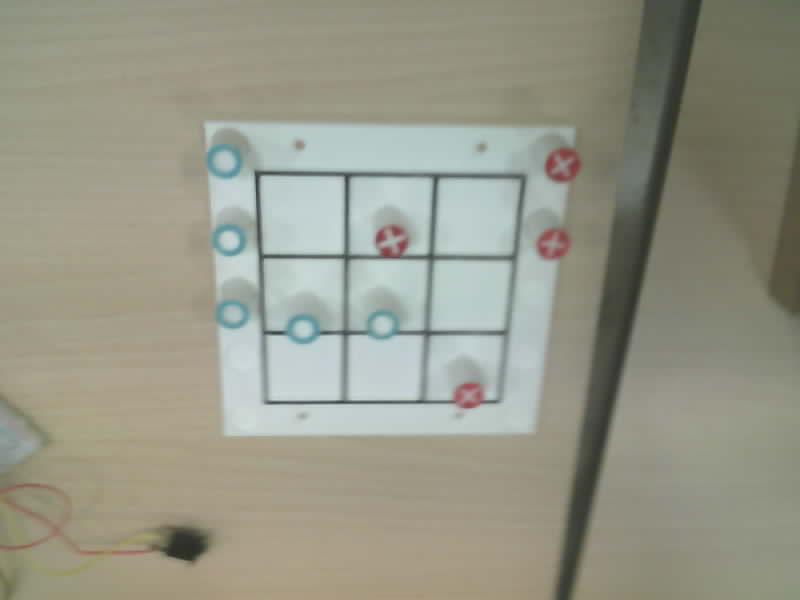blue circle: (206, 144, 241, 178), (212, 224, 245, 256), (286, 314, 320, 343), (215, 300, 249, 328), (367, 310, 399, 339)
board: (206, 122, 579, 434)
cells: (259, 175, 344, 254), (435, 178, 520, 255), (349, 177, 432, 255), (263, 258, 343, 331), (348, 259, 427, 331), (431, 260, 511, 331), (266, 334, 341, 401), (425, 336, 502, 401), (348, 335, 423, 401)
grid: (254, 171, 525, 404)
red cross: (545, 147, 580, 181), (375, 225, 408, 257), (536, 228, 570, 259), (453, 382, 483, 408)
